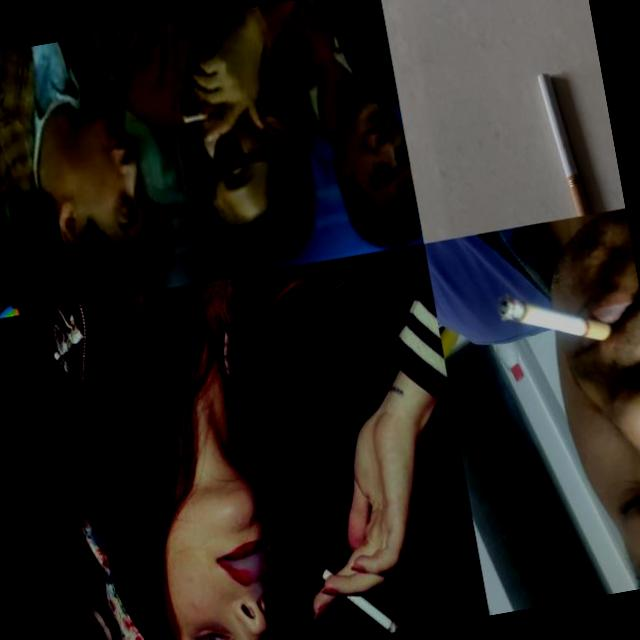smoke: (493, 274, 618, 361), (534, 67, 590, 219), (317, 556, 407, 640), (180, 107, 210, 127)
